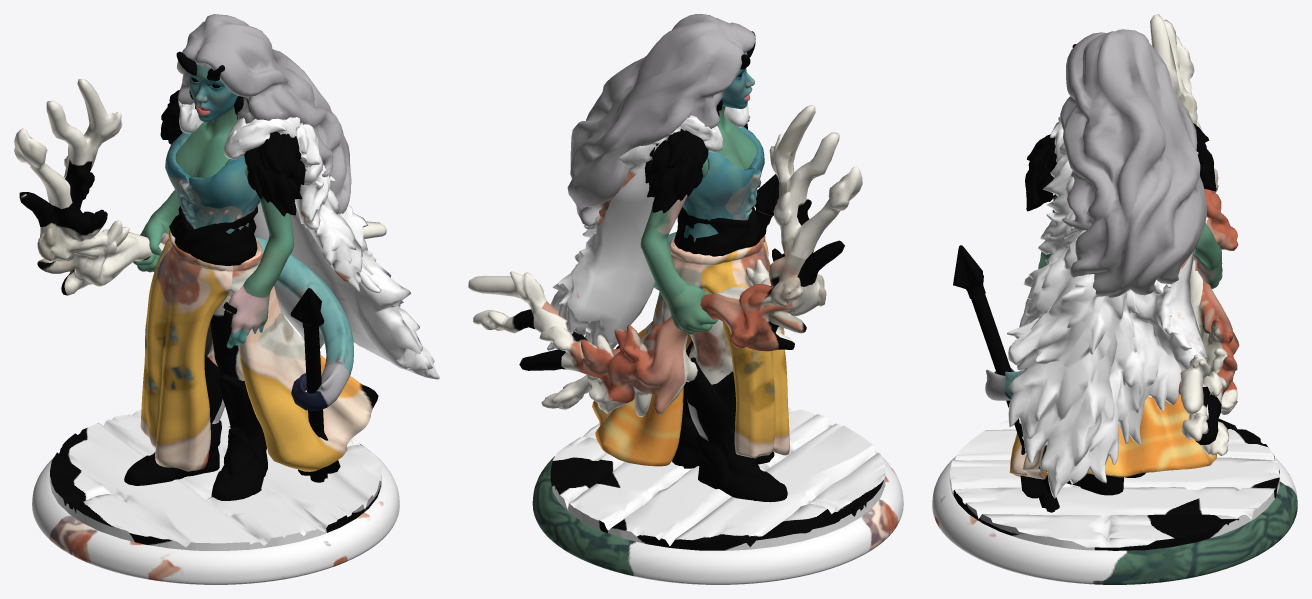
The picture shows the model from 3 angles, left to right: view 1: azimuth 30°, elevation 25°; view 2: azimuth 150°, elevation 25°; view 3: azimuth 270°, elevation 25°; orthographic projection.
Parts seen in each view (by area): view 1: hf_4036132_5178214; view 2: hf_4036132_5178214; view 3: hf_4036132_5178214.
Part boxes in pixels (<box>): hf_4036132_5178214: <box>14,14,439,584</box>; hf_4036132_5178214: <box>468,14,903,584</box>; hf_4036132_5178214: <box>932,14,1297,584</box>.
Size of the model in its own units: 1.15 by 1.4 by 0.9652.
